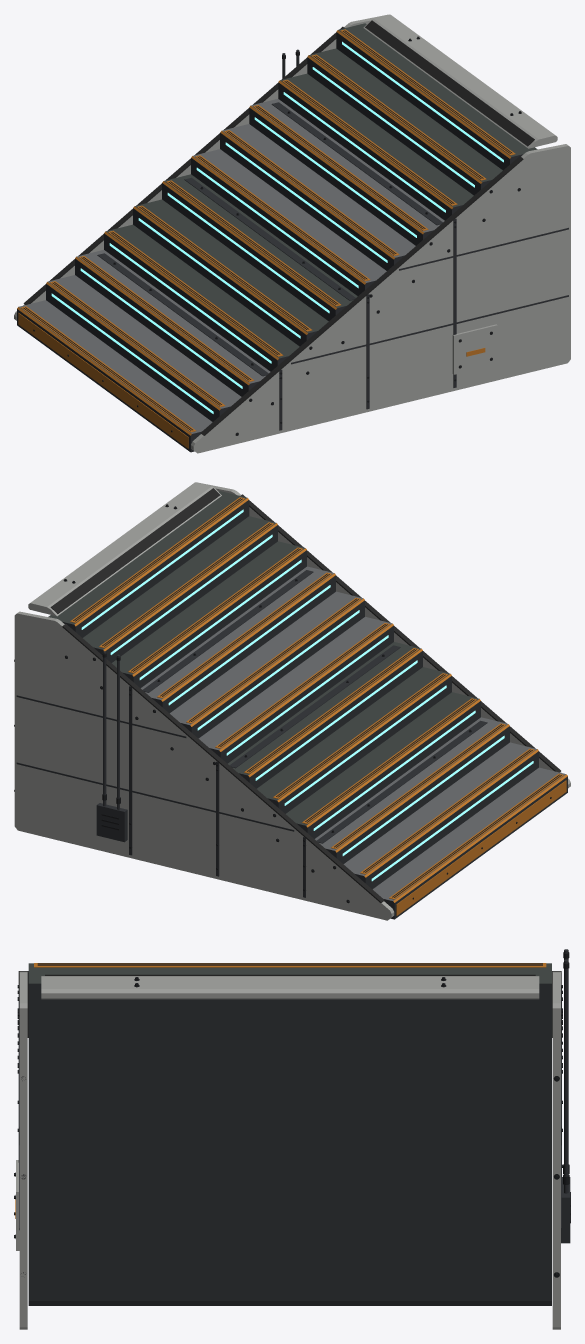
The model's file is SM_Stair_Flight_C.fbx.
3 views of the same model, one above another, from view 1: azimuth 30°, elevation 25°; view 2: azimuth 150°, elevation 25°; view 3: azimuth 270°, elevation 25° (orthographic). The views are drawn at different scales.
Visible parts, largest first — view 1: SM_Stair_Flight_C; view 2: SM_Stair_Flight_C; view 3: SM_Stair_Flight_C.
Part boxes in pixels (x1=…): SM_Stair_Flight_C: x1=14, y1=14, x2=570, y2=453; SM_Stair_Flight_C: x1=14, y1=482, x2=570, y2=920; SM_Stair_Flight_C: x1=14, y1=949, x2=570, y2=1329.
Bounding box in the file's own units: 366 × 208 × 309.
